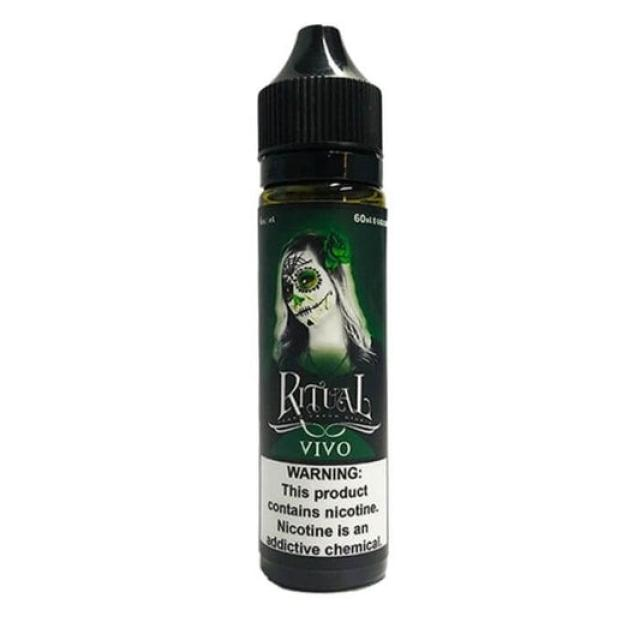Vapes: (255, 23, 389, 592)
